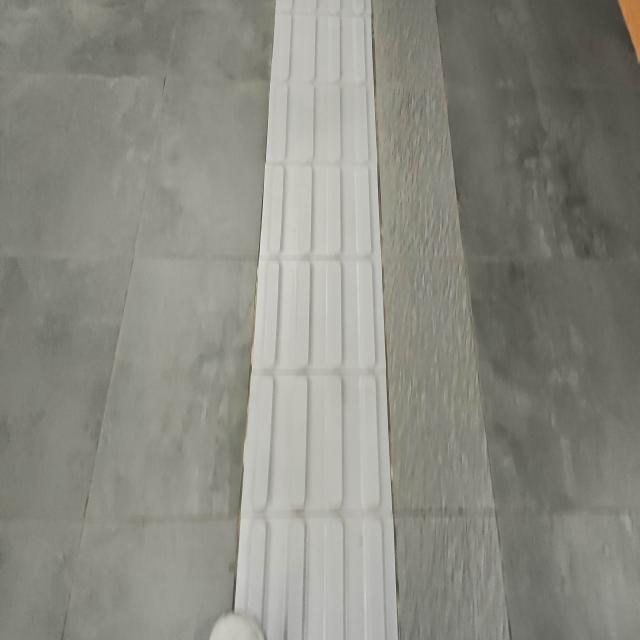lurus: (238, 0, 392, 640)
